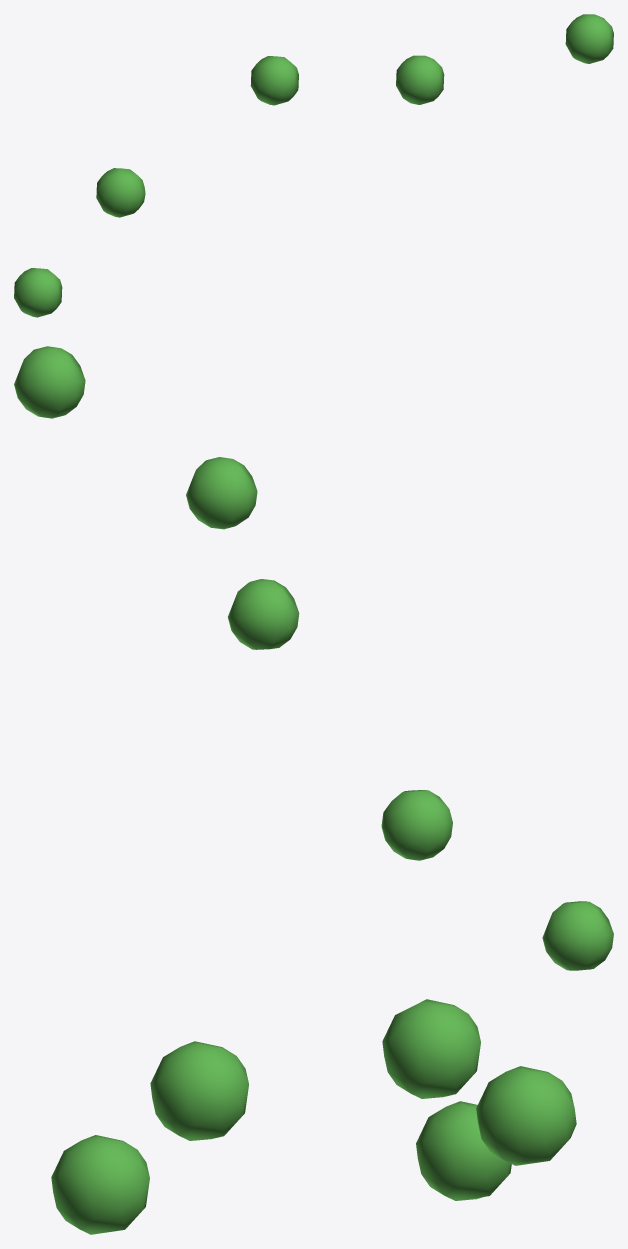
Rendered from linfatico-infraclavicular-nodes-r.glb.
3 views of the same model, one above another, from view 1: azimuth 30°, elevation 25°; view 2: azimuth 150°, elevation 25°; view 3: azimuth 270°, elevation 25° (orthographic). The views are drawn at different scales.
Parts seen in each view (by area): view 1: Infraclavicular nodes.r; view 2: Infraclavicular nodes.r; view 3: Infraclavicular nodes.r.
Part boxes in pixels (x1,y1,x2,y2): Infraclavicular nodes.r: [14, 14, 613, 317]; Infraclavicular nodes.r: [14, 346, 613, 970]; Infraclavicular nodes.r: [51, 999, 576, 1234].
Size of the model in its own units: 0.0297 by 0.0143 by 0.0134.
